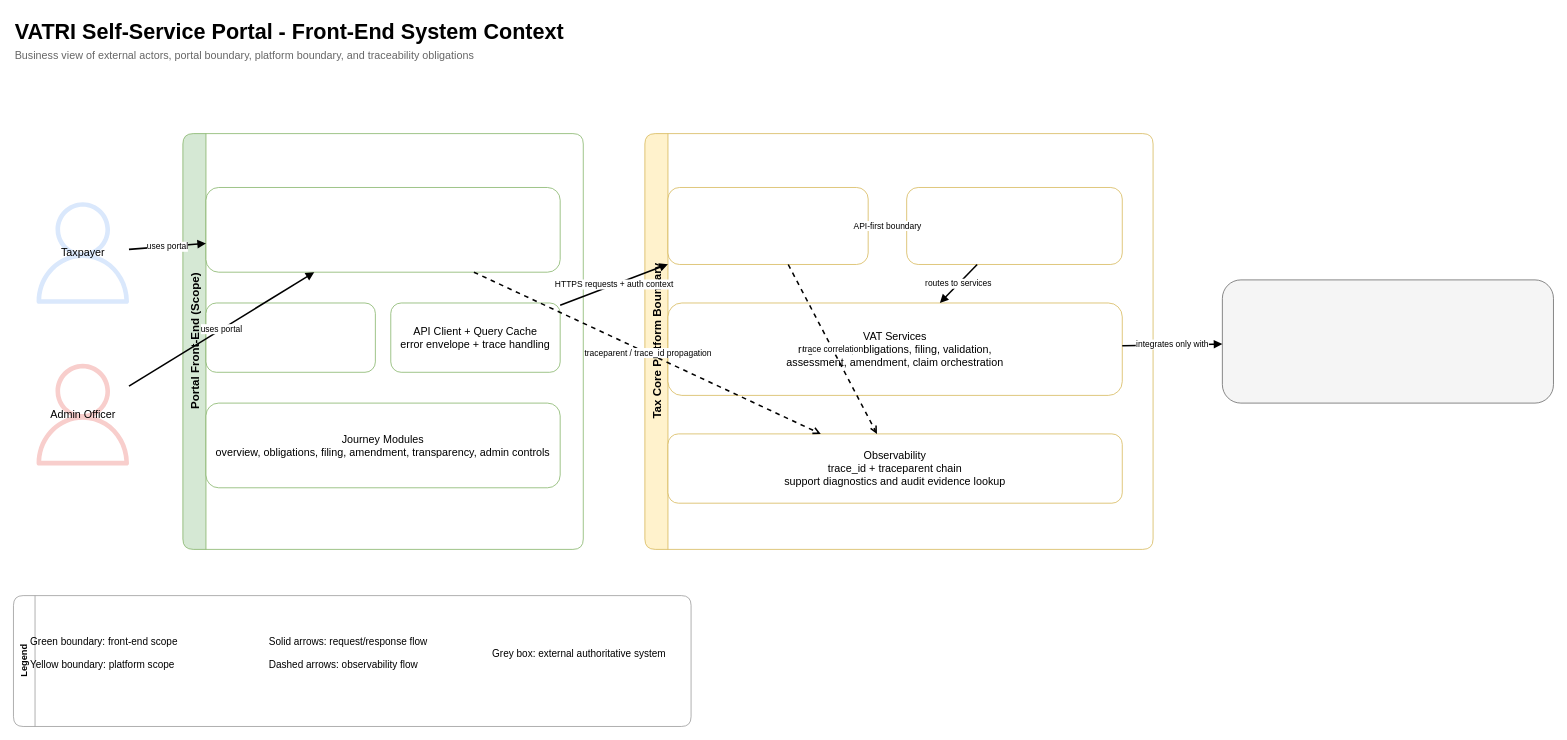
Image size: 1567x740. Some labels were removed from this diagram. The centre of each missing label's shape, as x and y in pixels:
"API Gateway coarse authz + policy + trace propagation" goes at point (1014, 225).
"Auth Session + RBAC Route Guards" goes at point (290, 337).
"Portal BFF API composition + session endpoints" goes at point (767, 225).
"System S (Only External System) Registration APIs + Taxpayer Accounting APIs" goes at point (1387, 341).
"Web UI (React + Next.js) Core shell + DK overlay" goes at point (382, 229).
